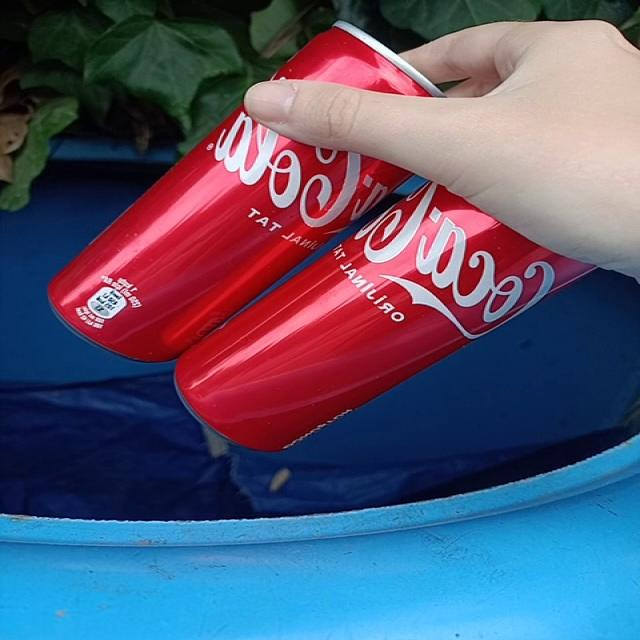bin: (0, 140, 637, 522), (1, 478, 638, 640)
metal: (177, 184, 593, 450), (48, 107, 408, 362), (275, 22, 441, 94)
